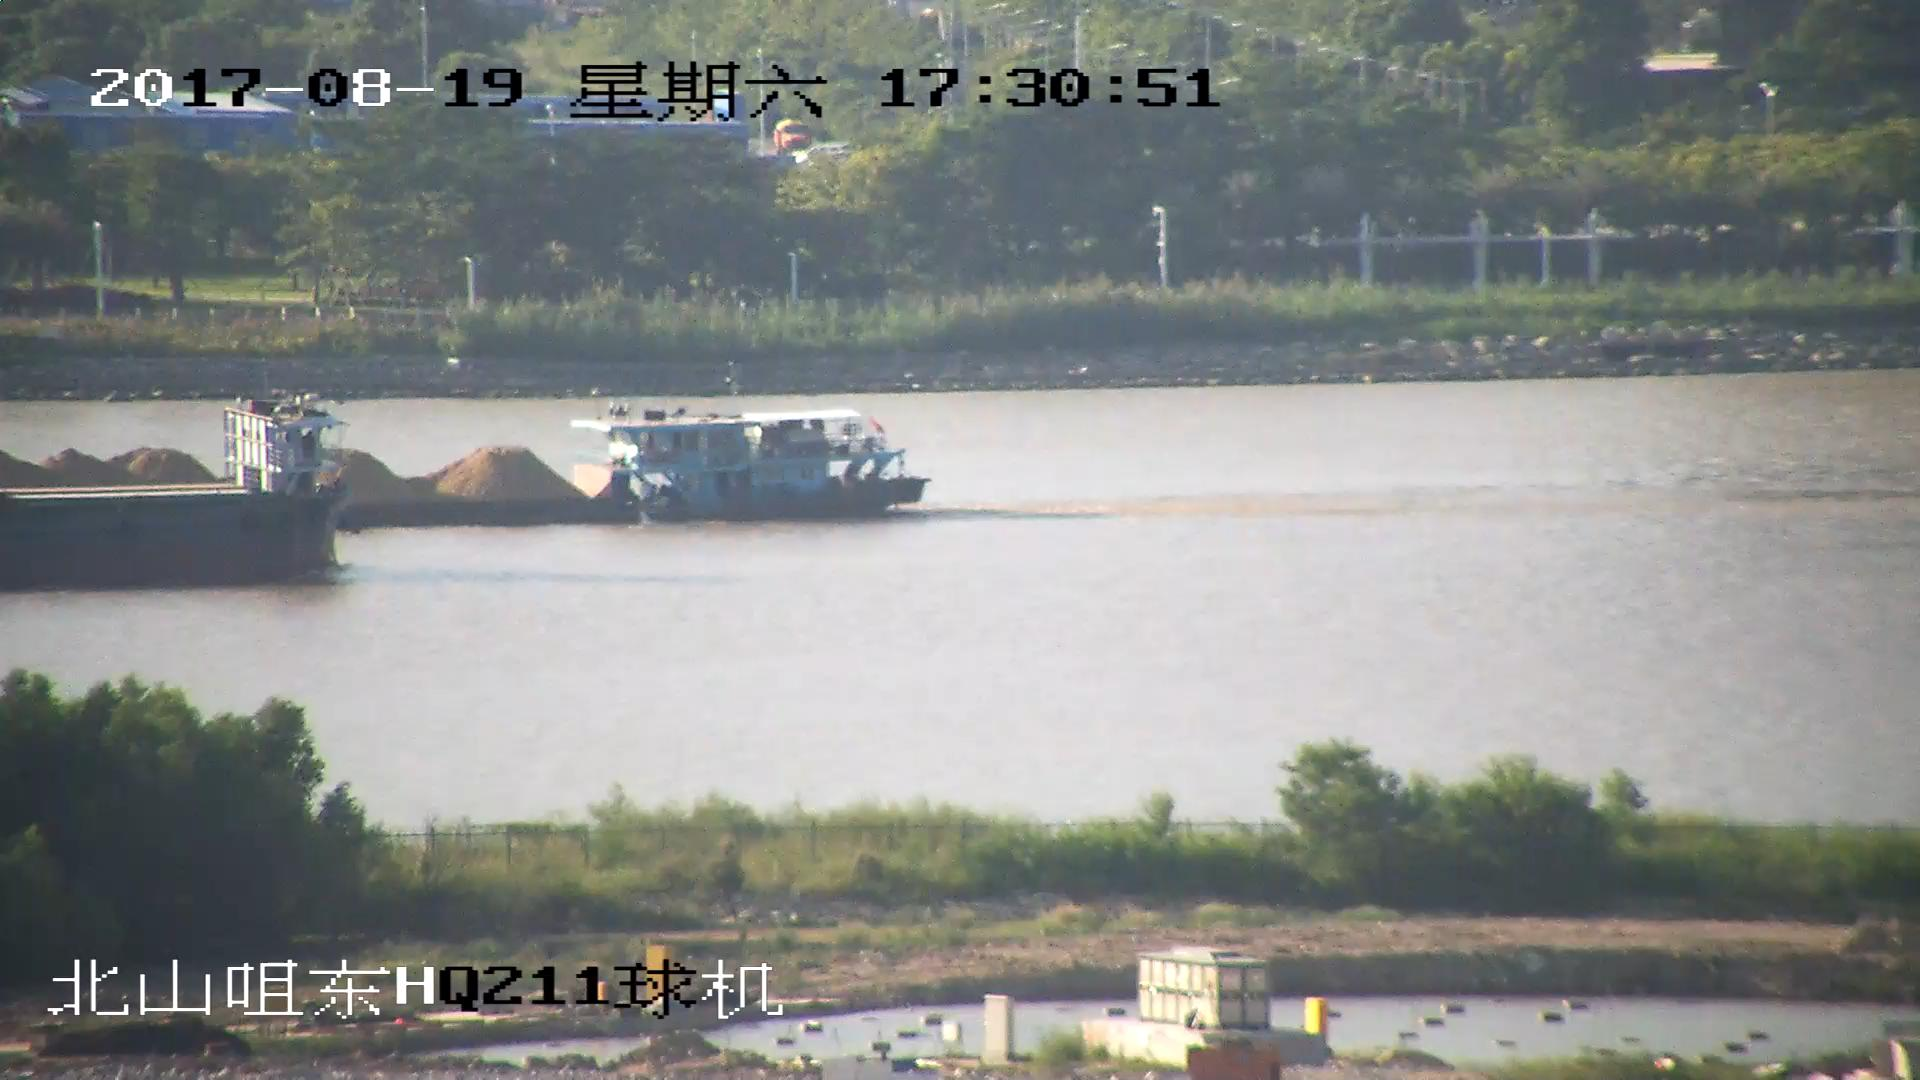general cargo ship: (1, 396, 356, 590)
ore carrier: (1, 408, 927, 515)
